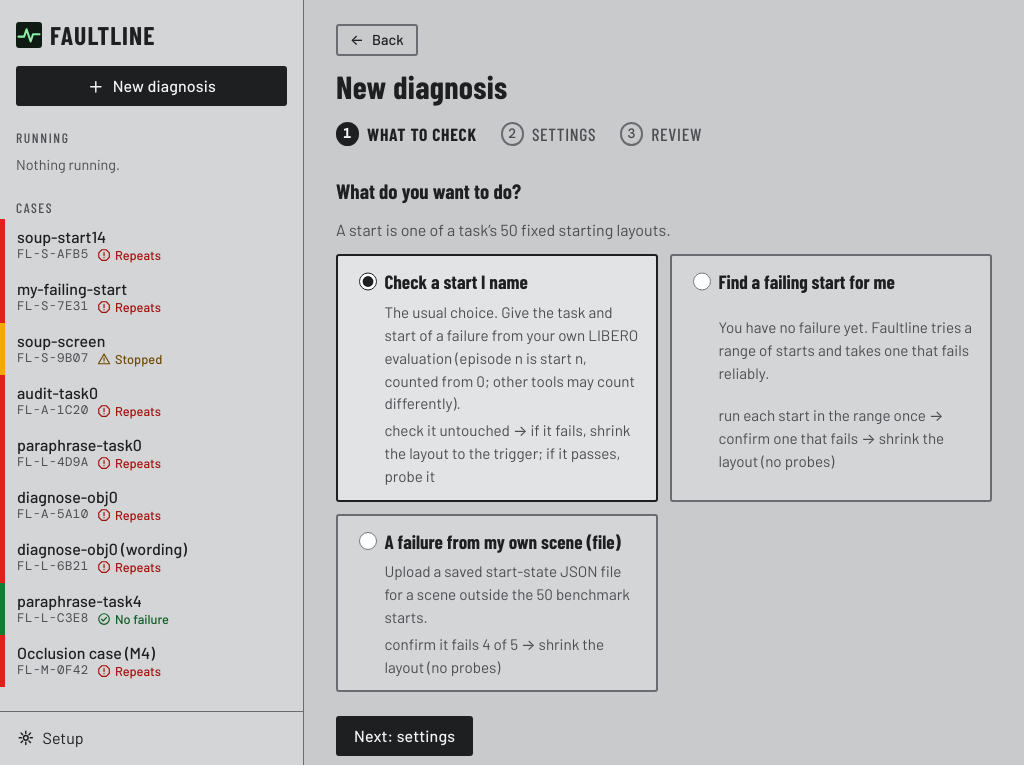
it: step 2: settings › groups the probes under "If the start passes untouched, also probe", four families ticked and six visible but unticked
Check: the heading "New diagnosis" is shown, box [336,67,508,105]
Click the radio button labelled "Check a start I name": x=368, y=282 [359,272,377,291]
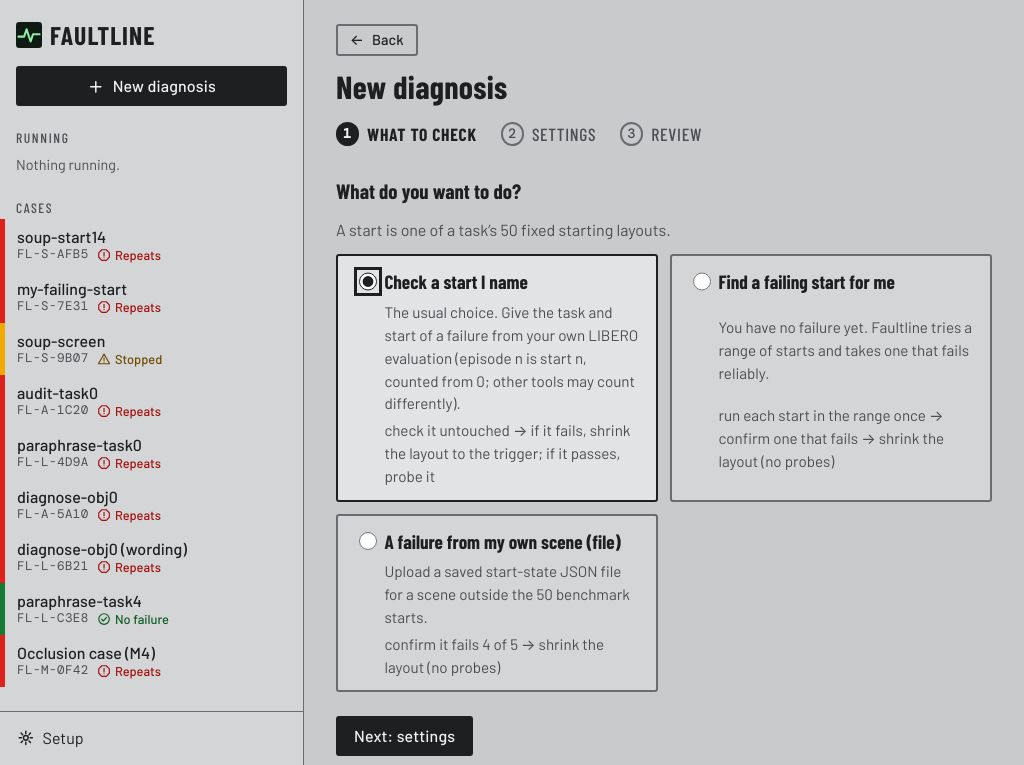
Click the button "Next: settings": x=405, y=736 [336,716,473,756]
(page scrolled)
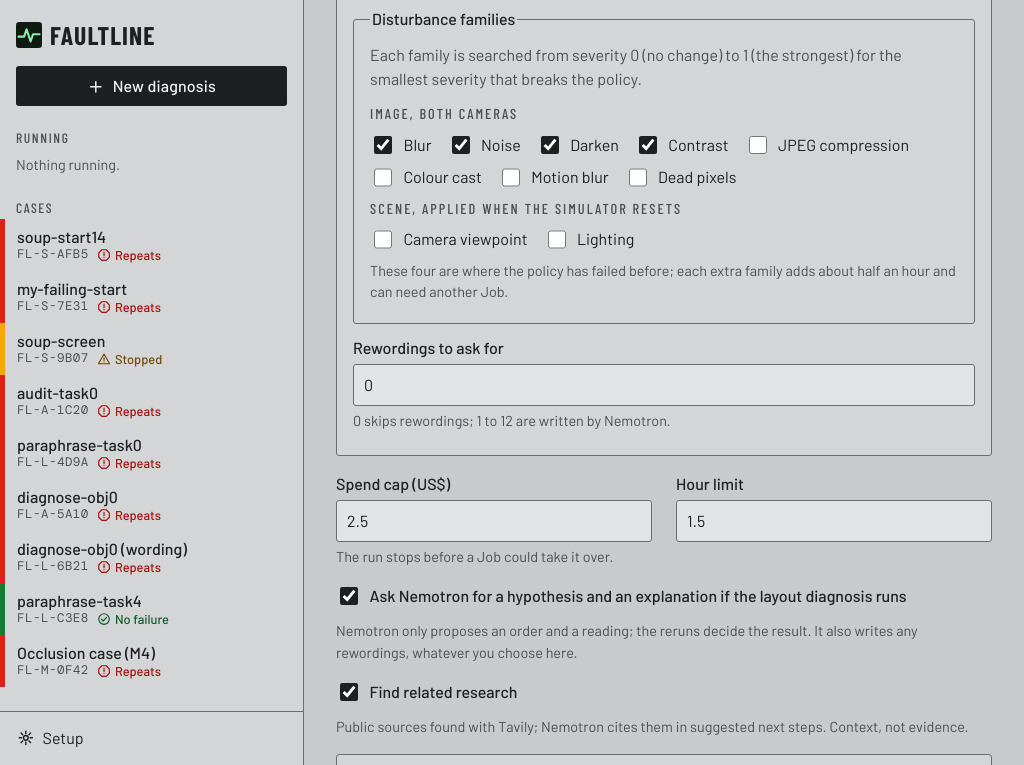
Check: the field labelled "Spend cap (US$)" is shown, box [336,500,652,542]
Check: the checkbox labelled "JPEG compression" is not checked, box [748,136,767,154]
Check: the checkbox labelled "Colour cast" is not checked, box [374,168,392,187]
